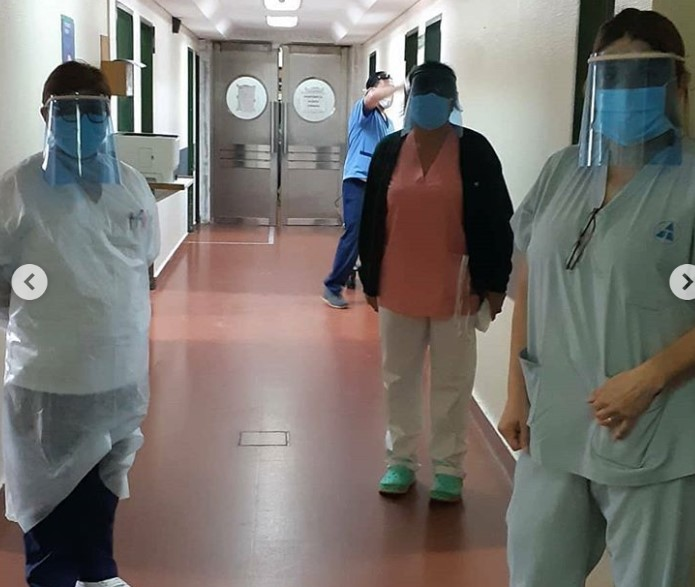face_with_mask: (579, 13, 686, 164), (41, 62, 125, 187), (405, 65, 462, 137)
